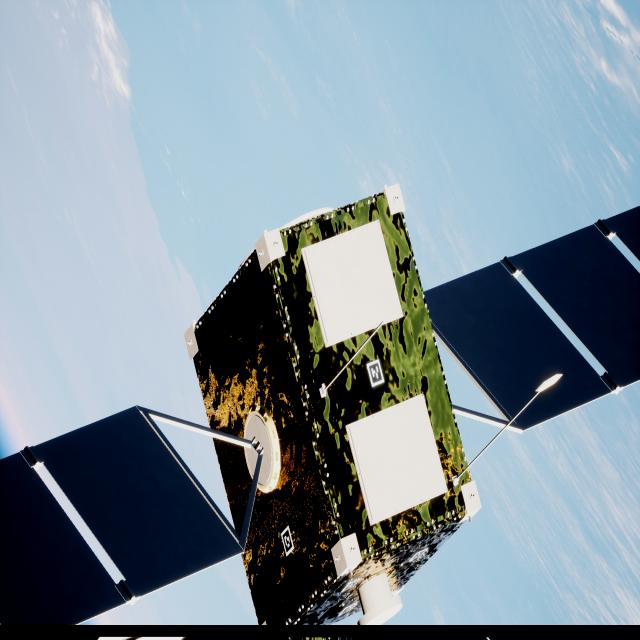satellite: (0, 187, 640, 626)
